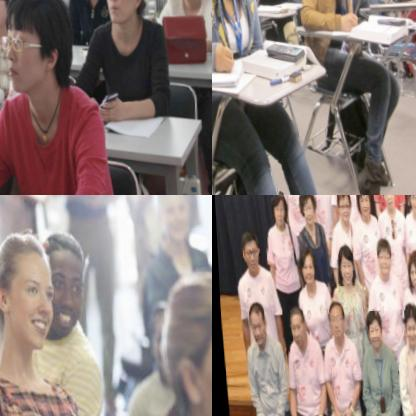head: (147, 259, 212, 416), (0, 221, 56, 354), (0, 0, 75, 99), (33, 227, 89, 345), (150, 195, 193, 244), (99, 0, 146, 26), (331, 241, 357, 285), (282, 303, 307, 348), (243, 300, 265, 345), (359, 309, 382, 350), (396, 301, 416, 346), (322, 303, 345, 340), (295, 244, 314, 288), (371, 239, 392, 277), (238, 230, 258, 269), (296, 195, 315, 228), (268, 195, 286, 229), (403, 247, 416, 294), (332, 195, 351, 221), (352, 195, 371, 221), (375, 195, 395, 208), (404, 195, 416, 209)
